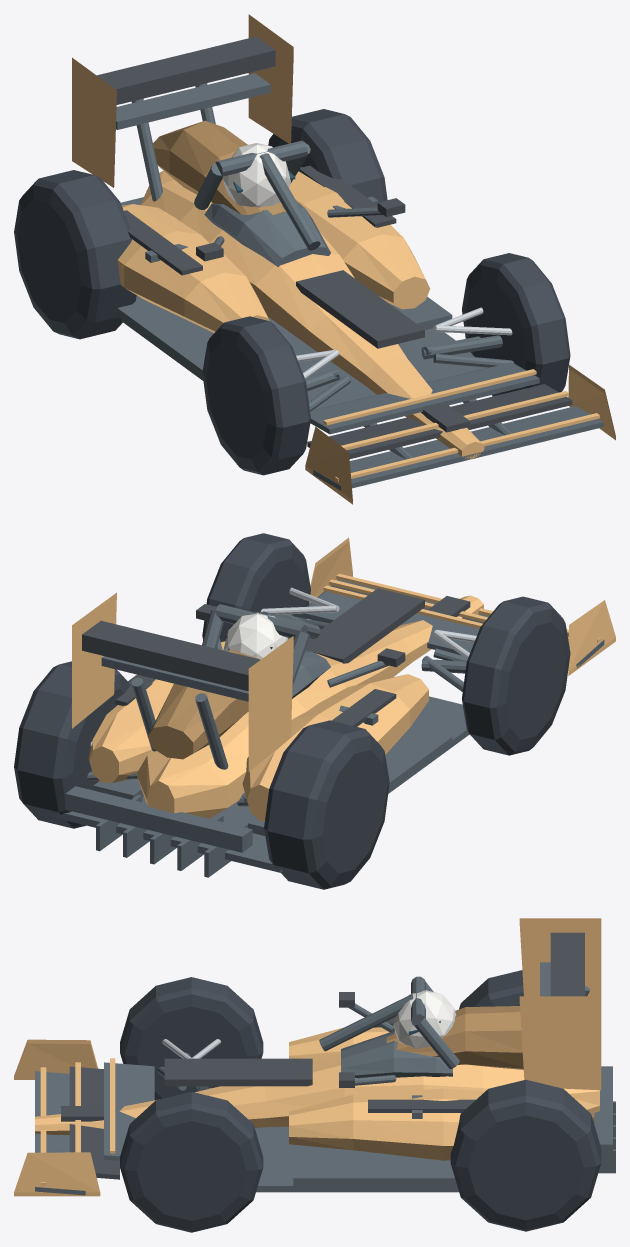
The model's file is mclaren_mobile.glb.
The picture shows the model from 3 angles, top to bottom: view 1: azimuth 30°, elevation 25°; view 2: azimuth 150°, elevation 25°; view 3: azimuth 270°, elevation 25°; orthographic projection. The views are drawn at different scales.
Parts seen in each view (by area): view 1: BODY_paint, BODY_carbon, BODY_accent, RearLeftWheel_rubber, FrontLeftWheel_rubber, FrontRightWheel_rubber, RearRightWheel_rubber, BODY_paint_dark, BODY_helmet, BODY_metal; view 2: BODY_paint, BODY_carbon, RearLeftWheel_rubber, FrontLeftWheel_rubber, BODY_accent, RearRightWheel_rubber, FrontRightWheel_rubber, BODY_paint_dark, BODY_helmet, BODY_metal; view 3: BODY_paint, BODY_carbon, RearRightWheel_rubber, FrontRightWheel_rubber, BODY_accent, FrontLeftWheel_rubber, BODY_paint_dark, BODY_helmet, RearLeftWheel_rubber.
Part boxes in pixels (left/top/right/bottom): BODY_paint: left=72, top=14, right=615, bottom=504; BODY_carbon: left=116, top=73, right=603, bottom=490; BODY_accent: left=97, top=36, right=572, bottom=458; RearLeftWheel_rubber: left=14, top=170, right=136, bottom=339; FrontLeftWheel_rubber: left=202, top=316, right=310, bottom=475; FrontRightWheel_rubber: left=462, top=253, right=570, bottom=396; RearRightWheel_rubber: left=268, top=109, right=387, bottom=202; BODY_paint_dark: left=153, top=120, right=285, bottom=215; BODY_helmet: left=223, top=143, right=290, bottom=207; BODY_metal: left=296, top=307, right=512, bottom=379; BODY_paint: left=72, top=537, right=615, bottom=821; BODY_carbon: left=56, top=579, right=604, bottom=877; RearLeftWheel_rubber: left=264, top=720, right=389, bottom=889; FrontLeftWheel_rubber: left=462, top=596, right=570, bottom=755; BODY_accent: left=82, top=585, right=483, bottom=726; RearRightWheel_rubber: left=14, top=661, right=130, bottom=828; FrontRightWheel_rubber: left=202, top=533, right=310, bottom=641; BODY_paint_dark: left=148, top=650, right=260, bottom=759; BODY_helmet: left=223, top=612, right=288, bottom=659; BODY_metal: left=90, top=587, right=476, bottom=746; BODY_paint: left=14, top=918, right=601, bottom=1196; BODY_carbon: left=35, top=962, right=615, bottom=1195; RearRightWheel_rubber: left=450, top=1079, right=601, bottom=1231; FrontRightWheel_rubber: left=120, top=1091, right=263, bottom=1232; BODY_accent: left=61, top=932, right=584, bottom=1179; FrontLeftWheel_rubber: left=120, top=977, right=263, bottom=1100; BODY_paint_dark: left=386, top=1006, right=523, bottom=1069; BODY_helmet: left=393, top=990, right=456, bottom=1049; RearLeftWheel_rubber: left=459, top=970, right=523, bottom=1009.
Size of the model in its own units: 2.59 by 1.9 by 4.88.
